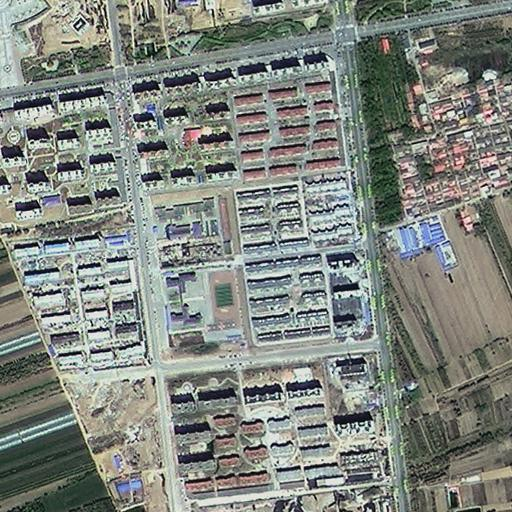school: (164, 263, 244, 351)
